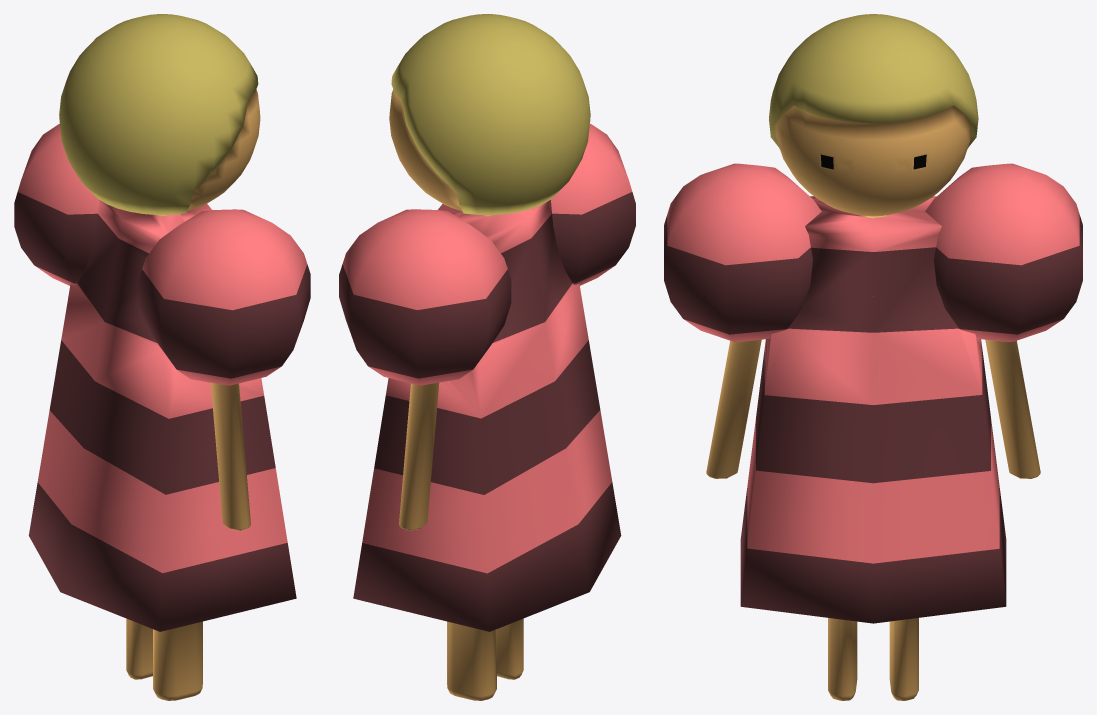
The model's file is Sandra.fbx.
3 renders of one model, left to right at view 1: azimuth 30°, elevation 25°; view 2: azimuth 150°, elevation 25°; view 3: azimuth 270°, elevation 25°, orthographic.
Visible parts, largest first — view 1: Cube; view 2: Cube; view 3: Cube.
Part boxes in pixels (<box>): Cube: <box>14,14,310,700</box>; Cube: <box>339,14,635,700</box>; Cube: <box>664,14,1082,700</box>.
Size of the model in its own units: 150 by 462 by 262.
